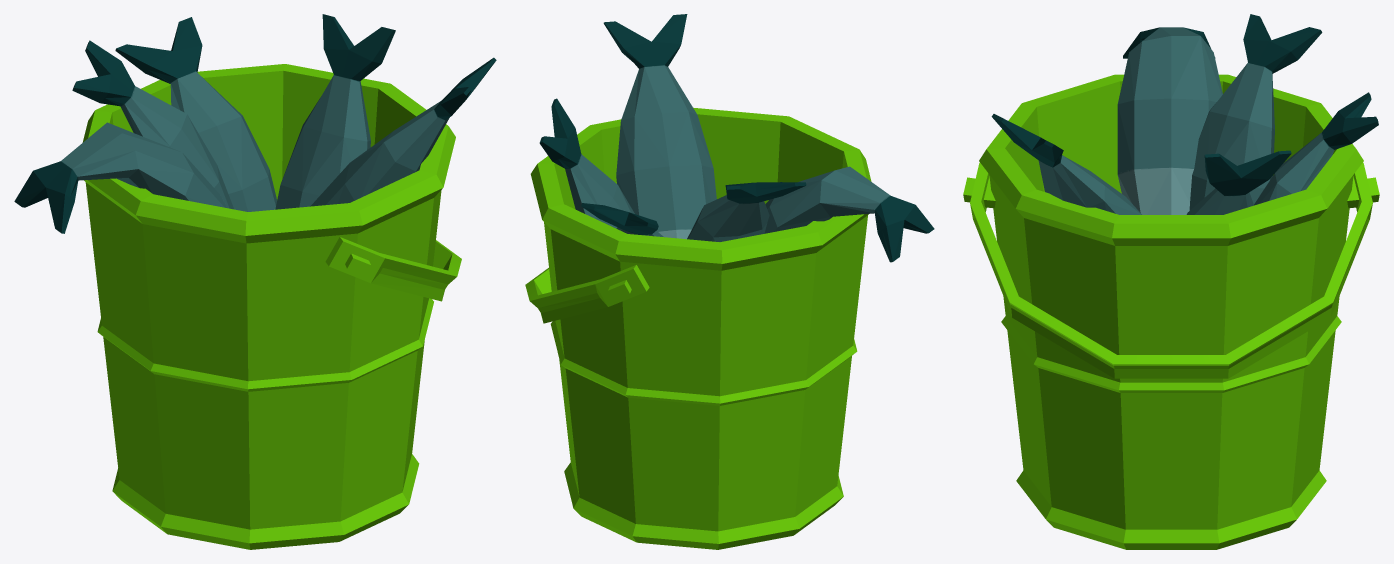
Rendered from FishBucket_02.FBX.
3 views of the same model, side by side, from view 1: azimuth 30°, elevation 25°; view 2: azimuth 150°, elevation 25°; view 3: azimuth 270°, elevation 25° (orthographic). The views are drawn at different scales.
Visible parts, largest first — view 1: Bucket_01; view 2: Bucket_01; view 3: Bucket_01.
Boxes of the visible parts, x1,y1,x2,y2 form: Bucket_01: (14, 14, 496, 549); Bucket_01: (525, 14, 934, 549); Bucket_01: (963, 14, 1379, 549).
Bounding box in the file's own units: 40.2 × 41.73 × 36.63.
